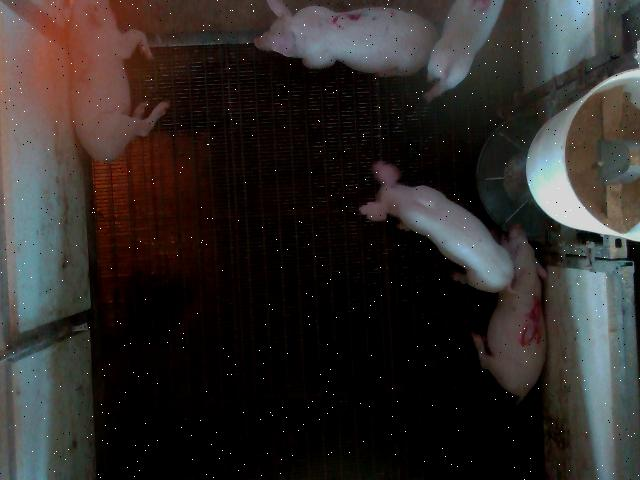pig-2: (69, 1, 169, 161)
pig-3: (254, 1, 439, 76)
pig-5: (471, 226, 546, 404)
